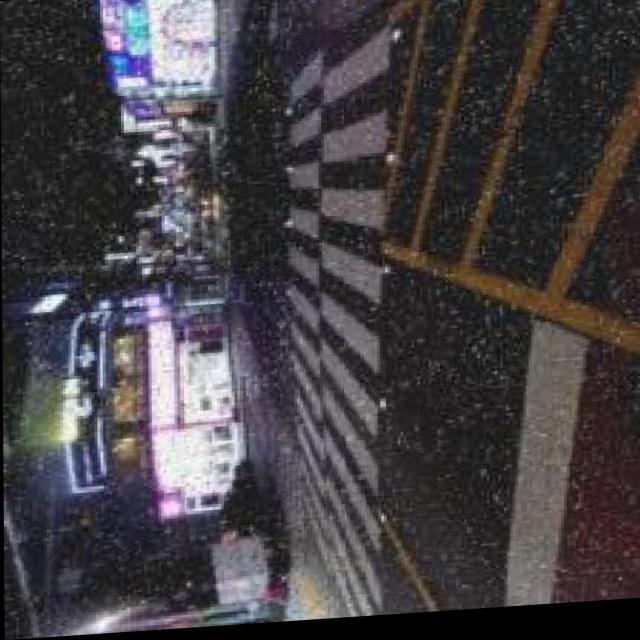zebra: (293, 25, 402, 596), (234, 301, 305, 542)
